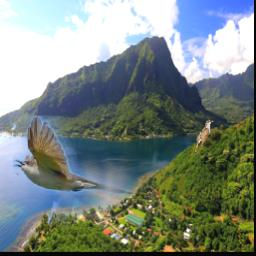Cuckoo: (13, 117, 134, 196), (193, 120, 213, 155)
